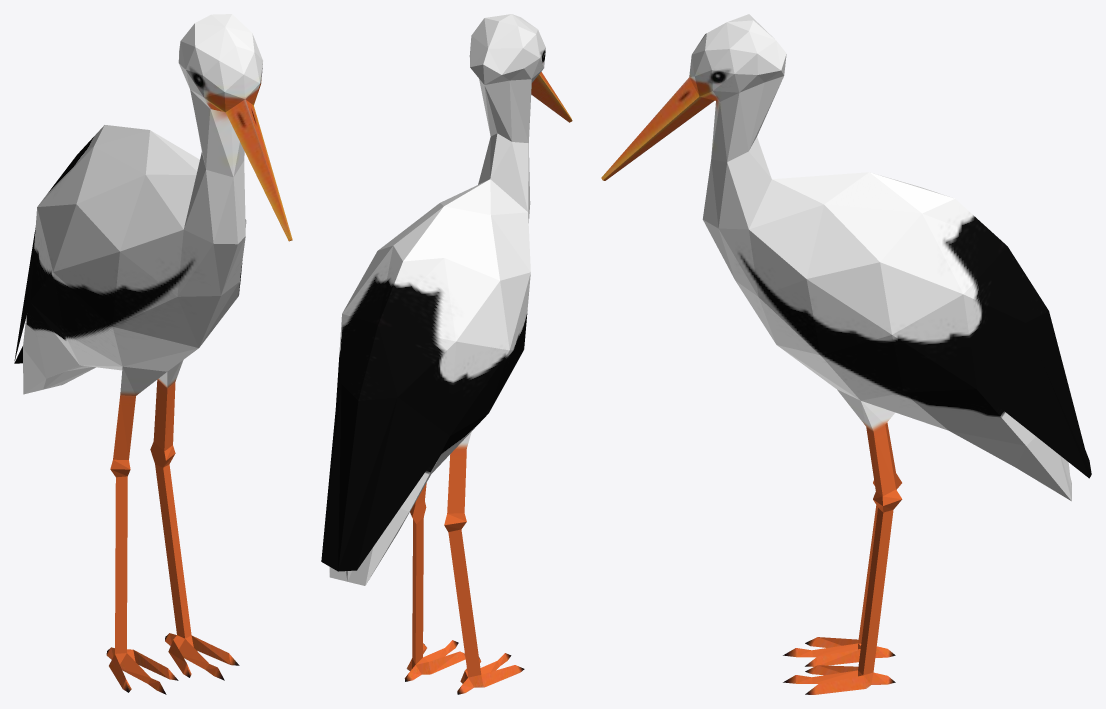
The model's file is stork_white.glb.
The picture shows the model from 3 angles, left to right: view 1: azimuth 30°, elevation 25°; view 2: azimuth 150°, elevation 25°; view 3: azimuth 270°, elevation 25°; orthographic projection. The views are drawn at different scales.
Visible parts, largest first — view 1: Stork; view 2: Stork; view 3: Stork.
Boxes of the visible parts, x1,y1,x2,y2 form: Stork: [14, 14, 292, 694]; Stork: [321, 14, 572, 694]; Stork: [601, 14, 1091, 694].
Bounding box in the file's own units: 0.2726 × 1.05 × 0.7194.
1 material, 1 textured.
